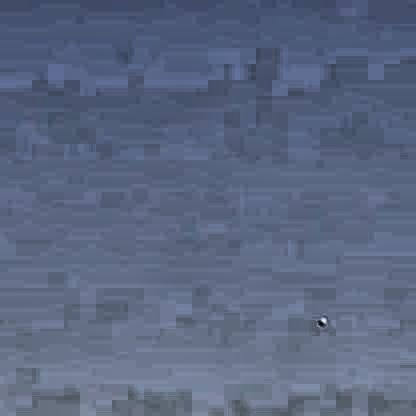golfball: (314, 314, 323, 323)
